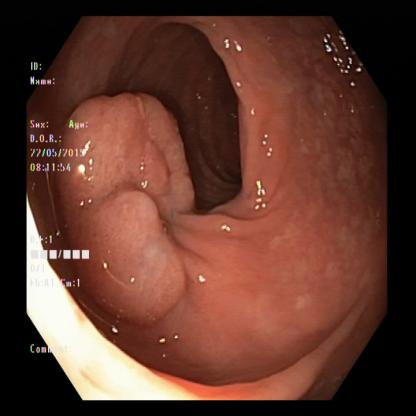Labels: (27, 58, 93, 362)
Polyps: (84, 96, 202, 214), (101, 184, 187, 324)
